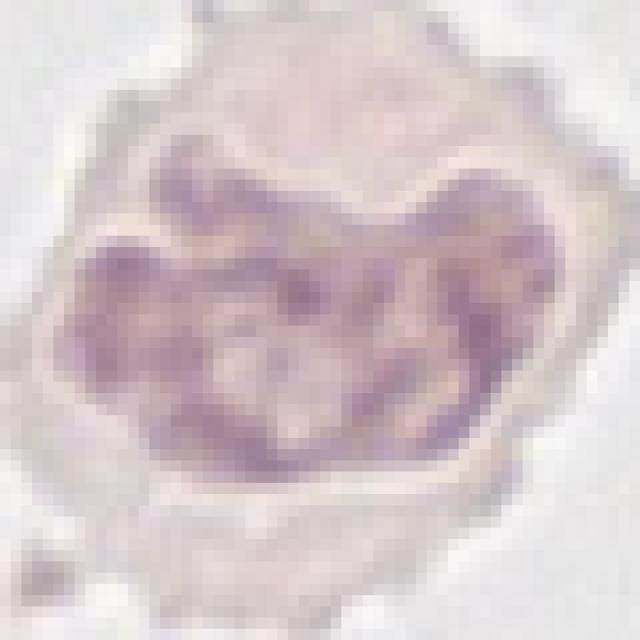nucleus: (38, 126, 573, 529)
